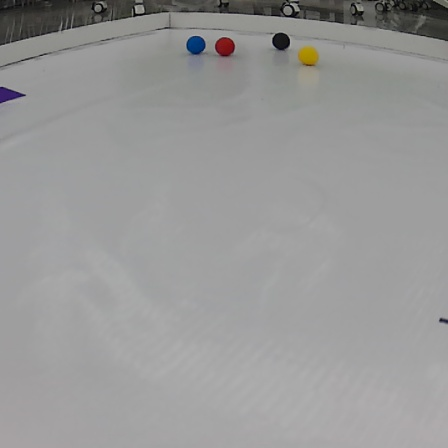black: (271, 30, 293, 53)
blue: (183, 34, 208, 55)
red: (215, 36, 236, 56)
yellow: (298, 47, 320, 68)
